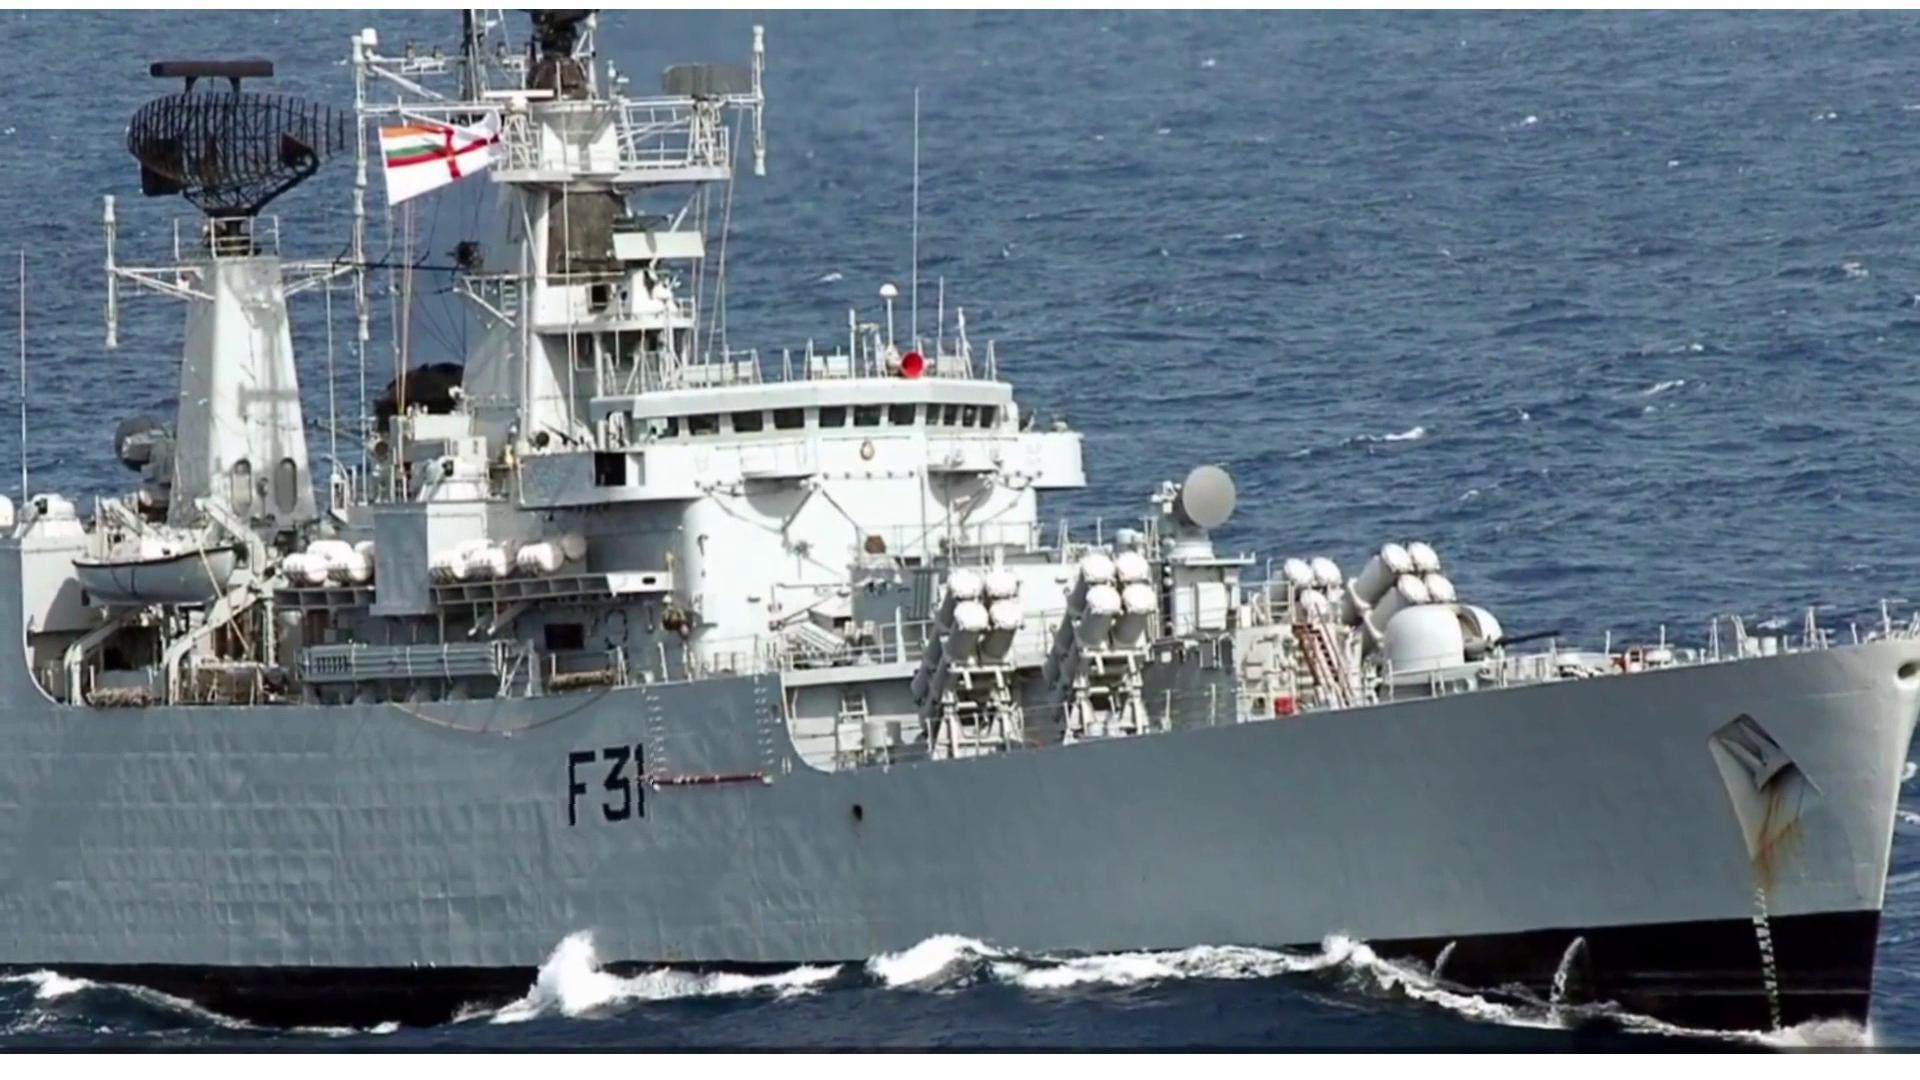OCR: (558, 737, 655, 837)
